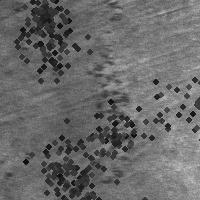rolled-in_scale: (61, 83, 161, 183), (79, 36, 140, 193), (127, 46, 200, 164), (13, 116, 111, 200), (5, 0, 93, 86), (37, 153, 113, 200), (14, 0, 72, 40)
